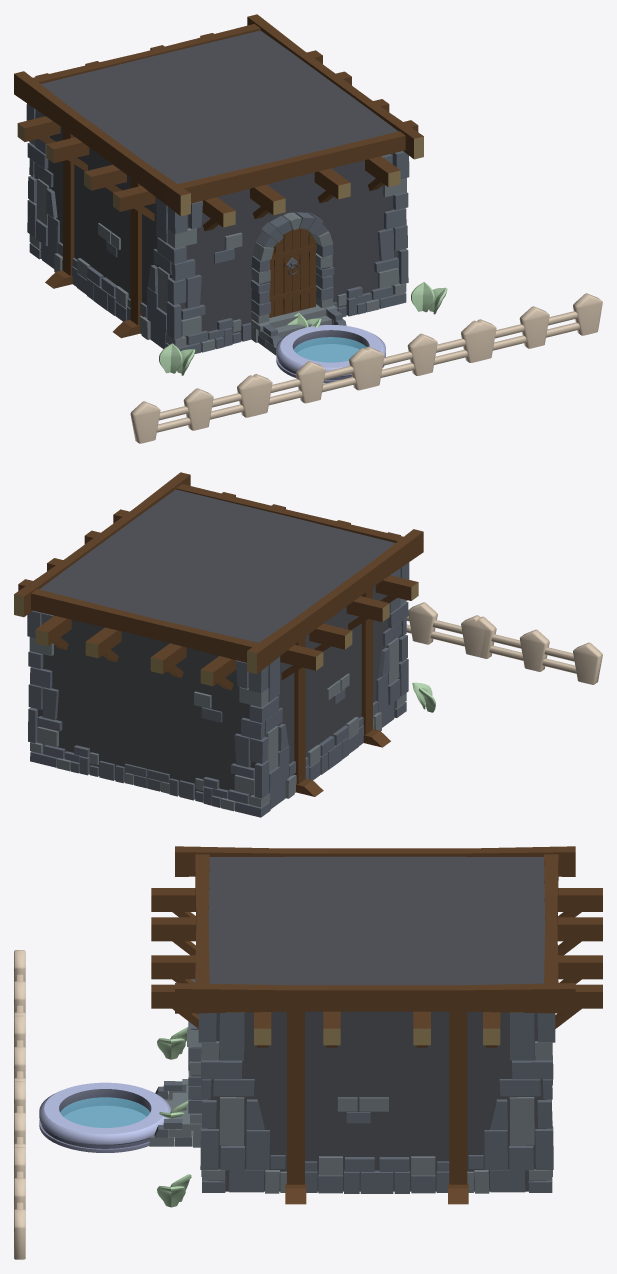
Rendered from london_house_villa.glb.
3 views of the same model, one above another, from view 1: azimuth 30°, elevation 25°; view 2: azimuth 150°, elevation 25°; view 3: azimuth 270°, elevation 25° (orthographic). The views are drawn at different scales.
Visible parts, largest first — view 1: House_4, fence_straight_long (×4), fountain-round, foliage_A (×2), (%ignore); view 2: House_4, fence_straight_long (×2); view 3: House_4, fountain-round, fence_straight_long (×4), (%ignore), foliage_A (×2).
Part boxes in pixels (x1,y1,x2,y2): House_4: (14,14,423,355); fence_straight_long (×4): (130,293,602,443); fountain-round: (276,325,385,383); foliage_A (×2): (159,282,447,375); (%ignore): (294,337,365,362); House_4: (14,472,423,817); fence_straight_long (×2): (406,602,602,684); House_4: (149,846,602,1204); fountain-round: (39,1082,170,1152); fence_straight_long (×4): (14,950,25,1259); (%ignore): (60,1097,149,1127); foliage_A (×2): (157,1027,191,1207).
Bounding box in the file's own units: 16.74 × 6.03 × 15.17.
14 materials, 1 textured.
